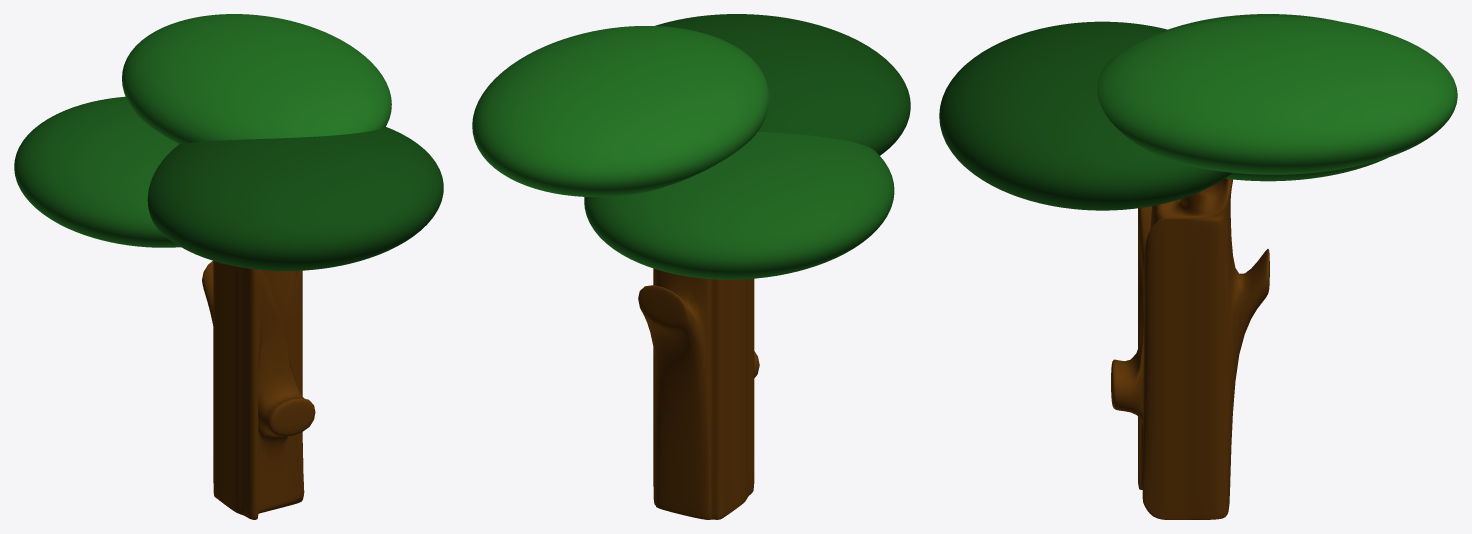
Rendered from TreeBall.fbx.
3 views of the same model, side by side, from view 1: azimuth 30°, elevation 25°; view 2: azimuth 150°, elevation 25°; view 3: azimuth 270°, elevation 25° (orthographic). The views are drawn at different scales.
Parts seen in each view (by area): view 1: pSphere4; view 2: pSphere4; view 3: pSphere4.
Part boxes in pixels (box(x1,y1,x2,y2)): pSphere4: box(14, 14, 443, 519); pSphere4: box(472, 14, 910, 519); pSphere4: box(939, 14, 1457, 519).
Size of the model in its own units: 7.92 by 9.47 by 9.29.
